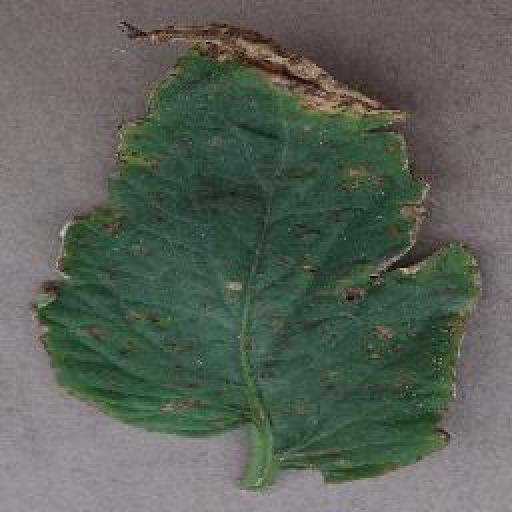Bacterial Spot: (29, 13, 488, 488)
